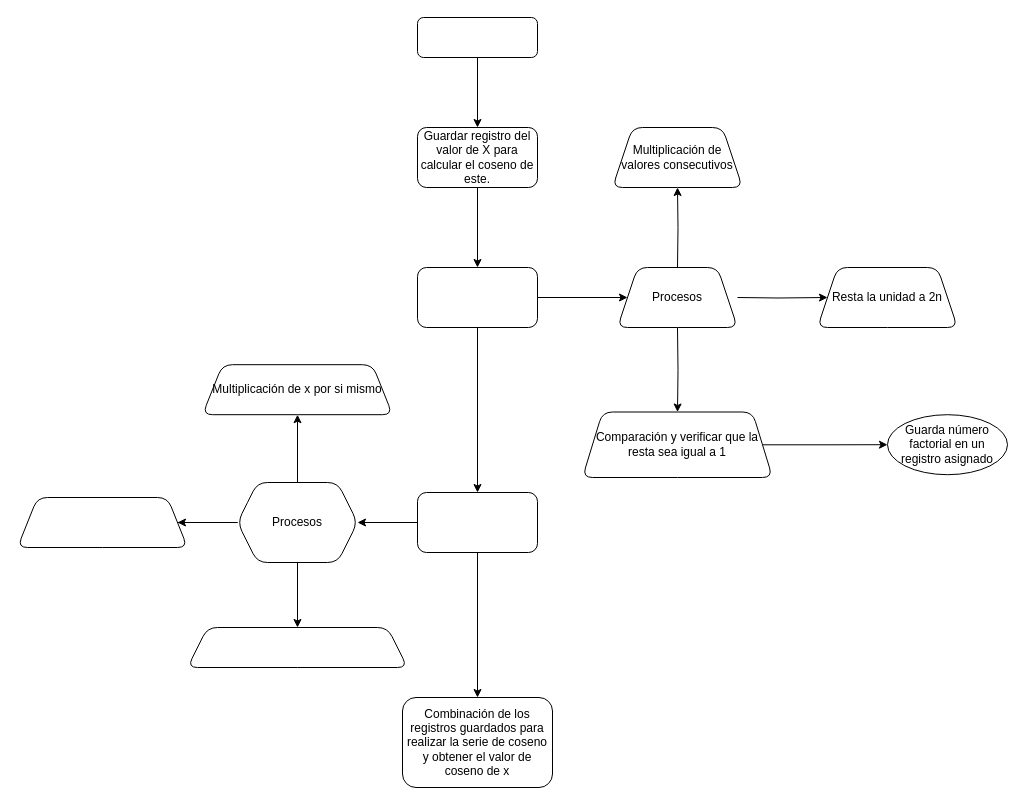
Some shapes in this 1025 by 805 pixel diagram are drawn without their labels. The shapes that lost their labels are listed below. From the top down, each one's centre as x and y in pixels, then its label:
the point at 477,37: Inicio del programa
the point at 477,297: Funcion factorial
the point at 102,522: Resta a 2n la unidad
the point at 477,522: Potencia x
the point at 297,647: Verificar que n llegue al valor de 0
